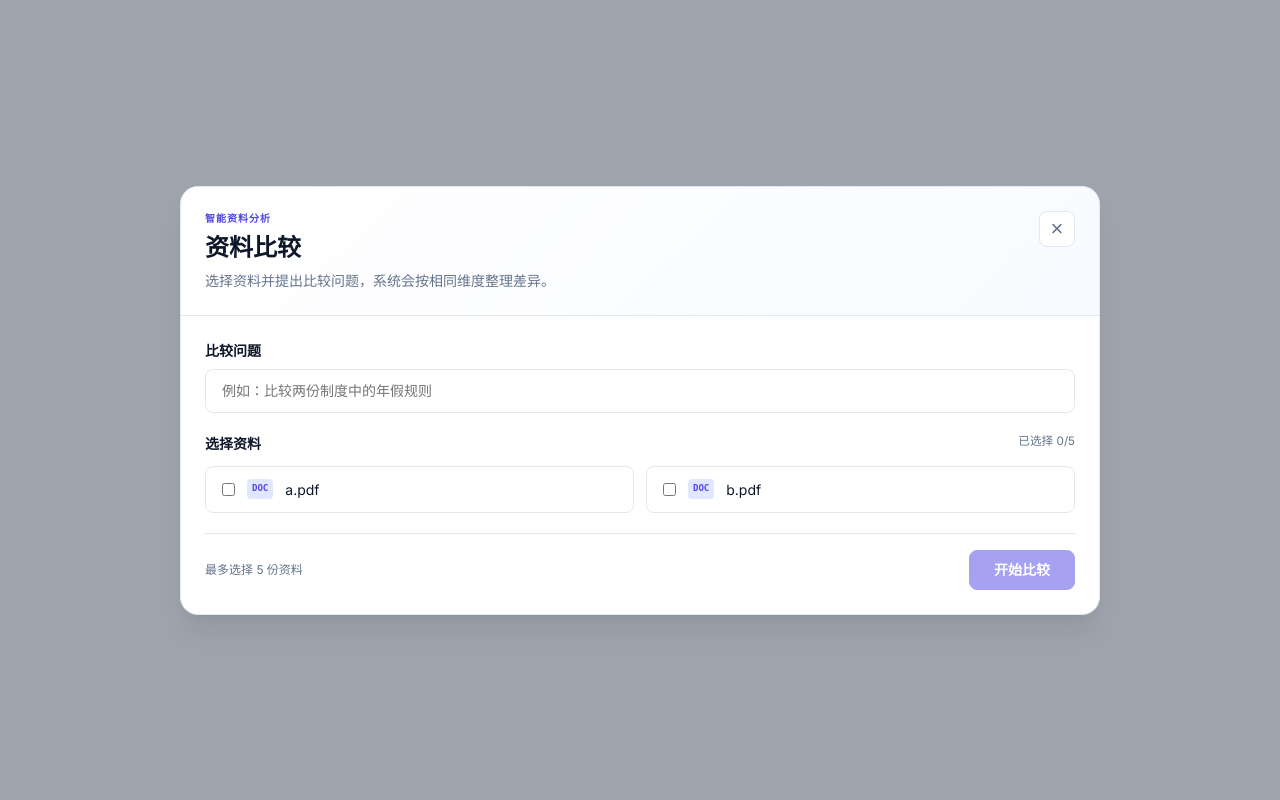
DocumentCompareDialog › submits selected visible logical documents and renders missing cells as insufficient evidence
Click the checkbox labelled "DOC a.pdf".
click(228, 489)  # box [222,482,235,496]
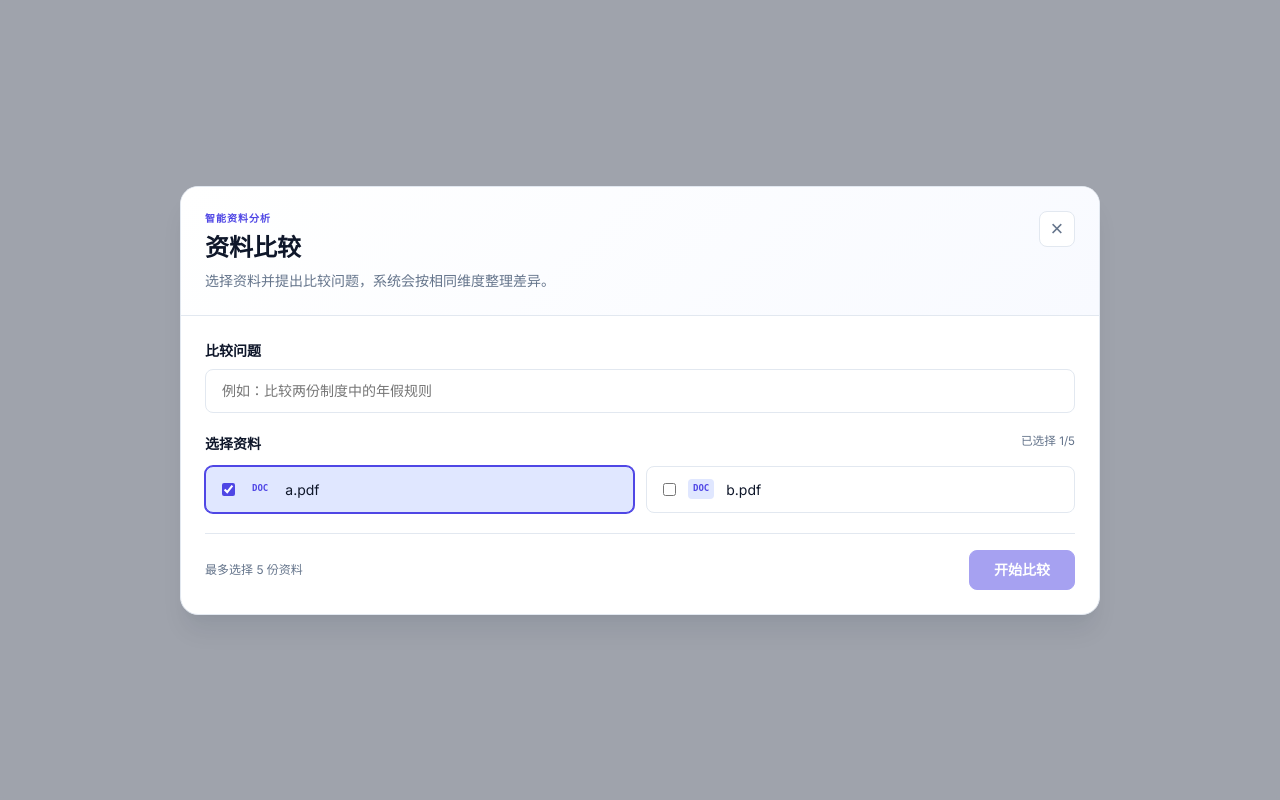
Click the checkbox labelled "DOC b.pdf".
click(670, 489)  # box [663,482,676,496]
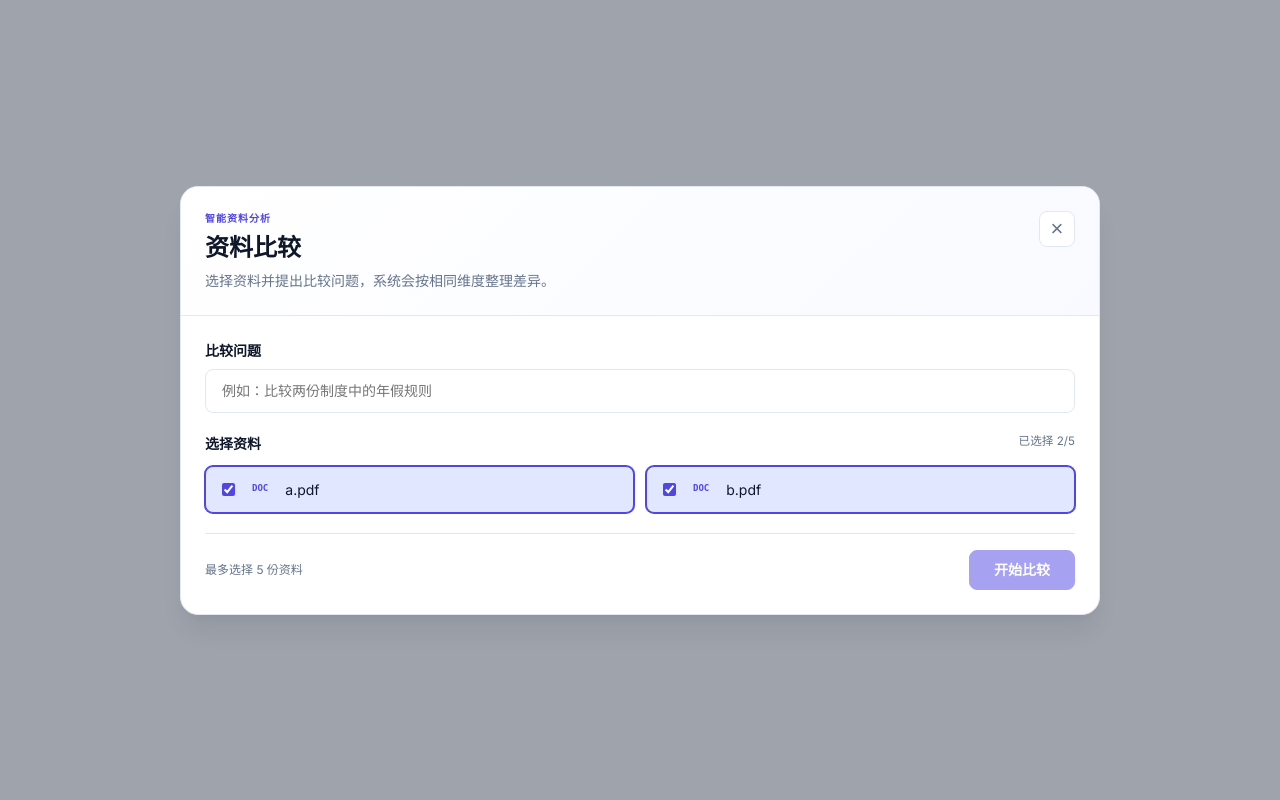
Type "比较年假" into the field named "question".
click(640, 390); type("比较年假")  # box [205,368,1075,412]
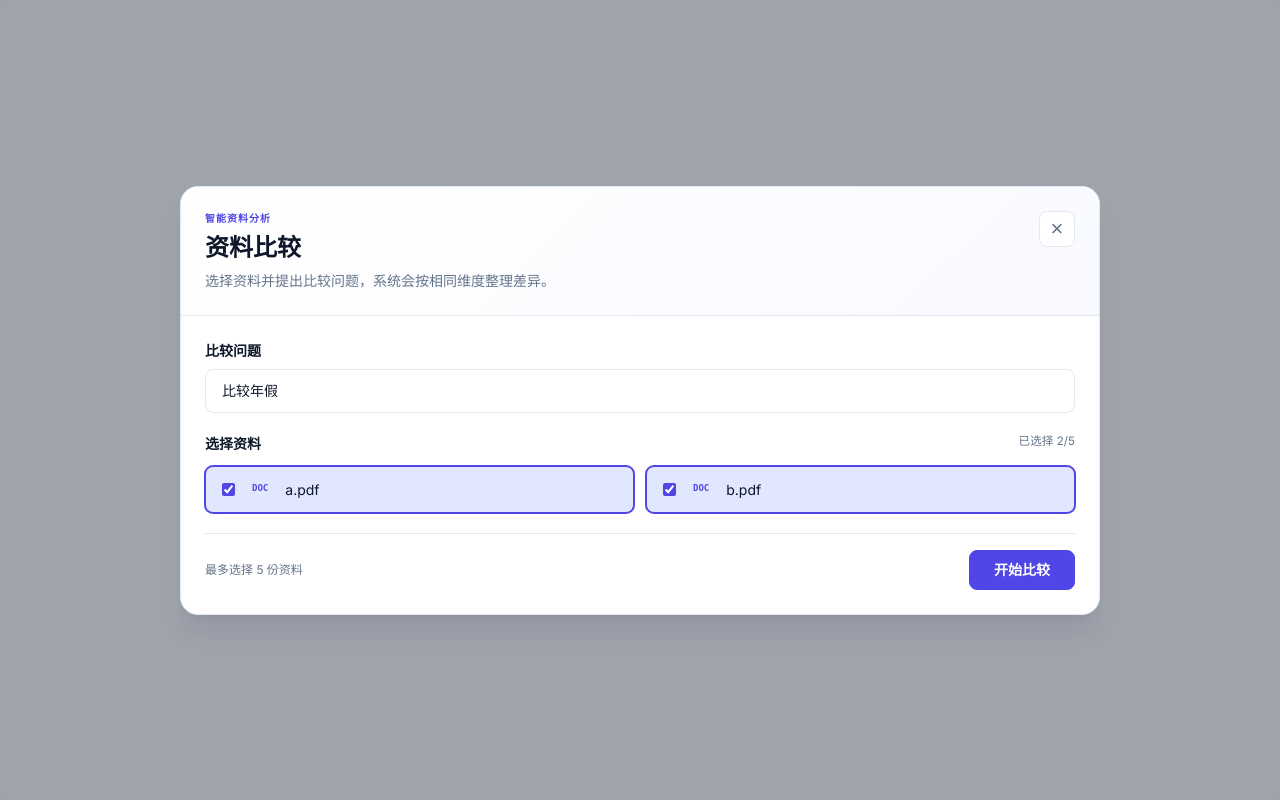
Submit the form, box [205,340,1075,590]
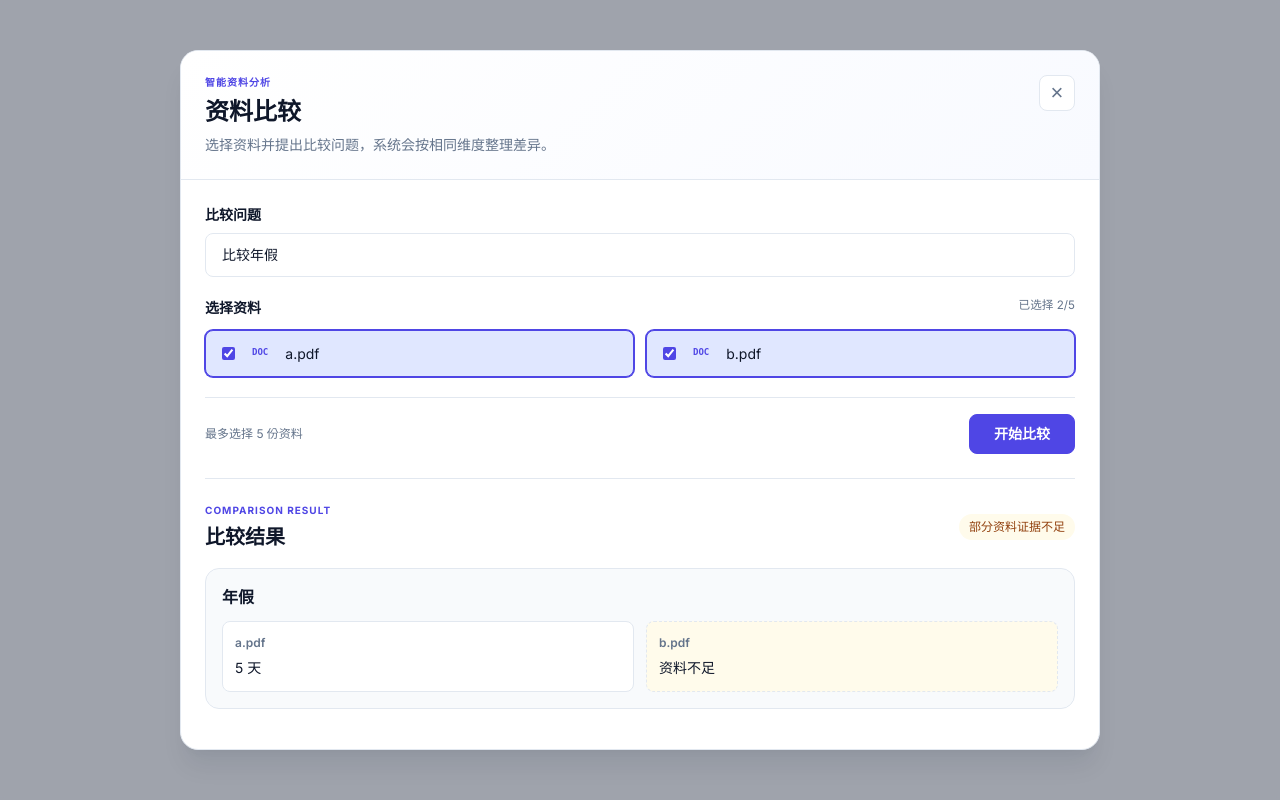
Check: the text "资料不足" is shown, box [659,659,715,676]
